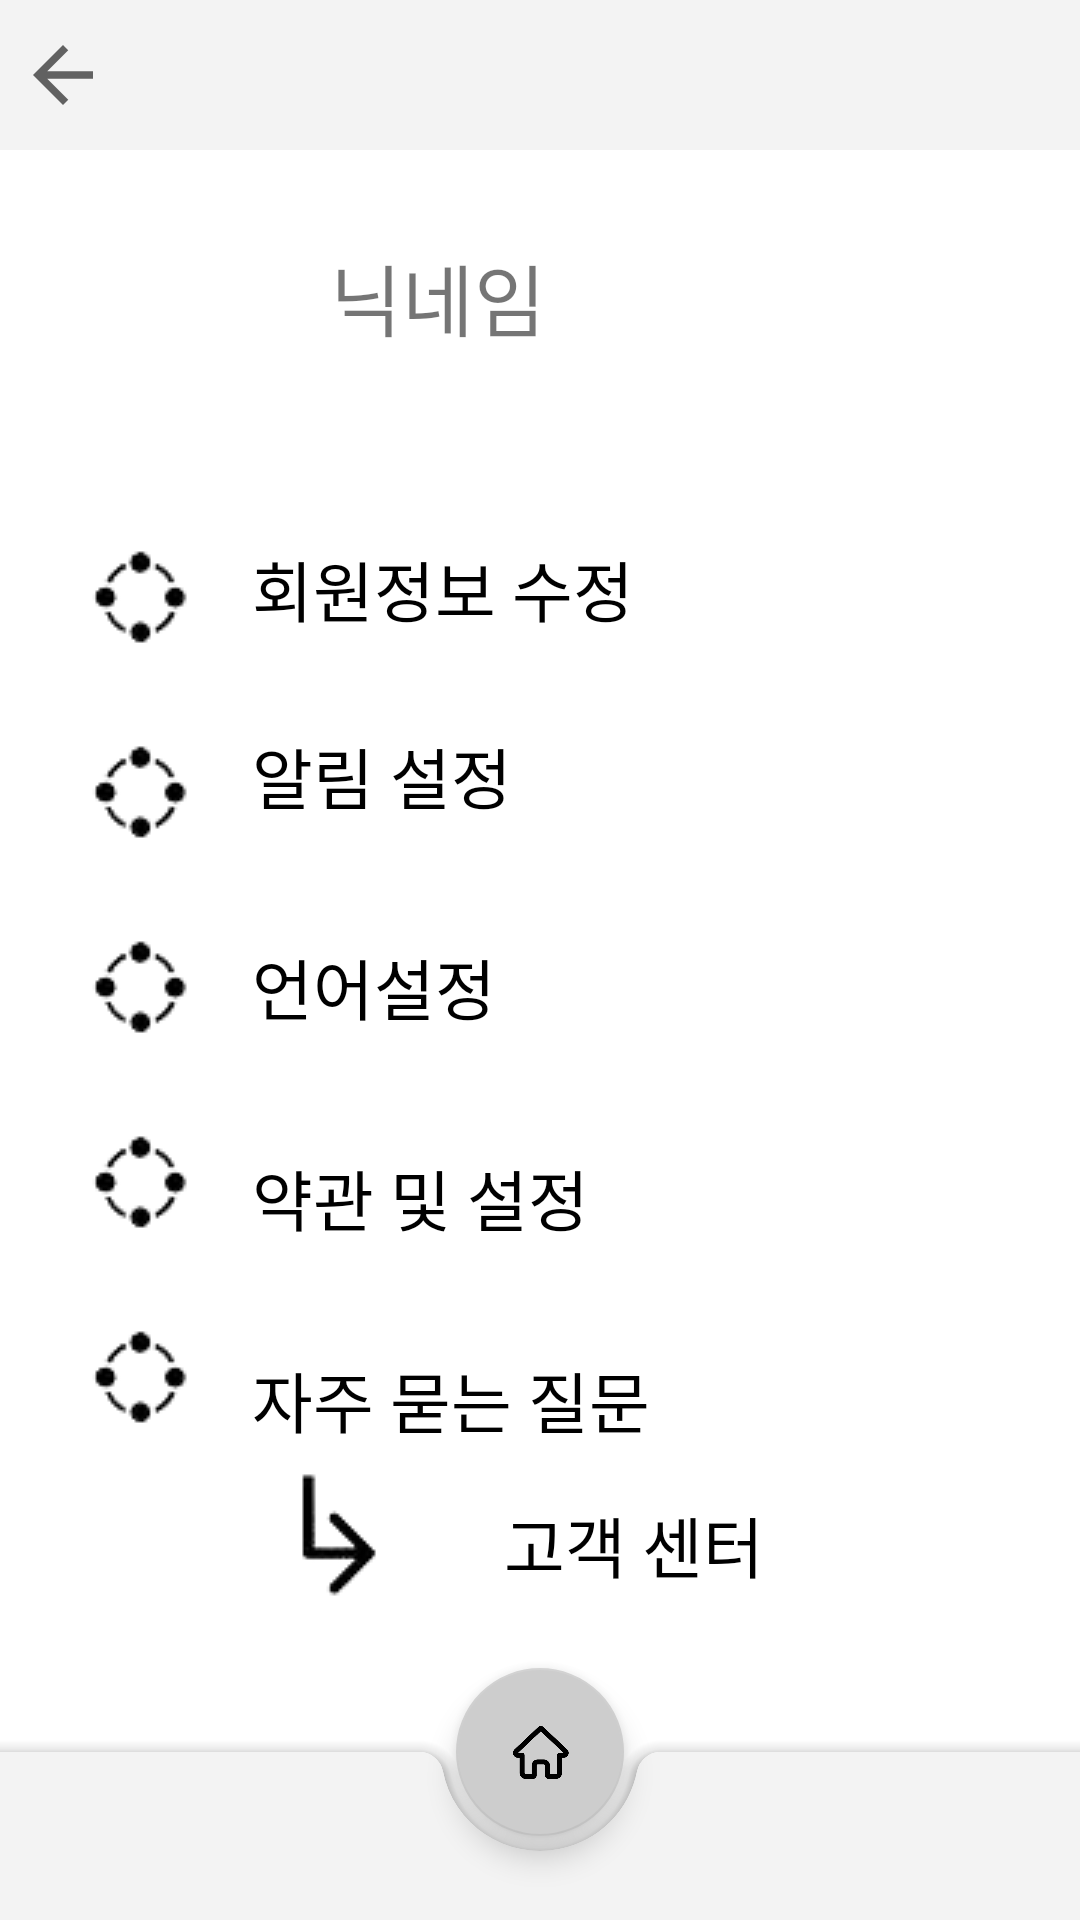

Icons on this 1080 x 1920 Android screen, each with the point to tap as point (x, y):
homebutton: point (540, 1752)
